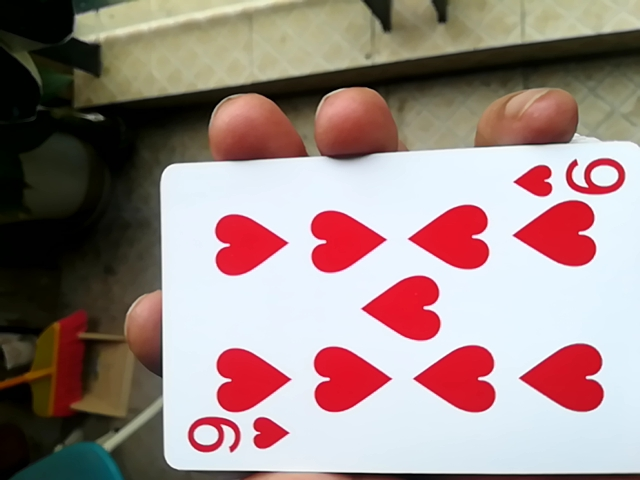hx 9: (146, 144, 635, 480)
